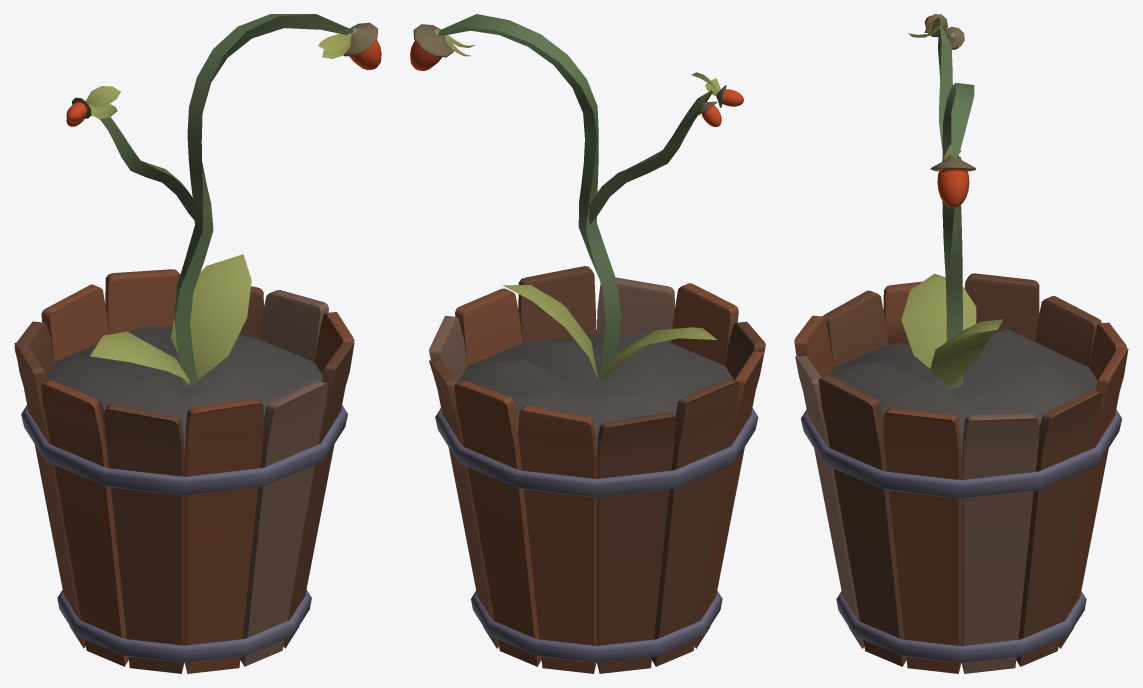
The model's file is P_flowerpot_01.fbx.
3 views of the same model, side by side, from view 1: azimuth 30°, elevation 25°; view 2: azimuth 150°, elevation 25°; view 3: azimuth 270°, elevation 25° (orthographic).
Parts seen in each view (by area): view 1: lod1; view 2: lod1; view 3: lod1.
Part boxes in pixels (left/top/right/bottom): lod1: left=14, top=14, right=381, bottom=673; lod1: left=410, top=14, right=765, bottom=673; lod1: left=794, top=14, right=1128, bottom=673.
Size of what is drawn, in the model's own units: 0.5943 by 0.9886 by 0.5178.
Materials: 1 (1 with a texture image).
